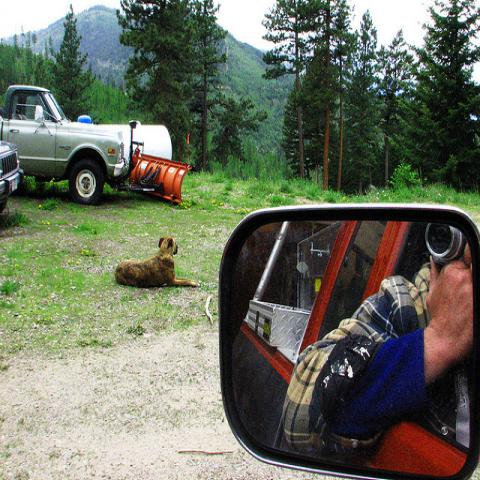car: (0, 141, 22, 214)
truck: (0, 82, 128, 205), (1, 143, 17, 213)
